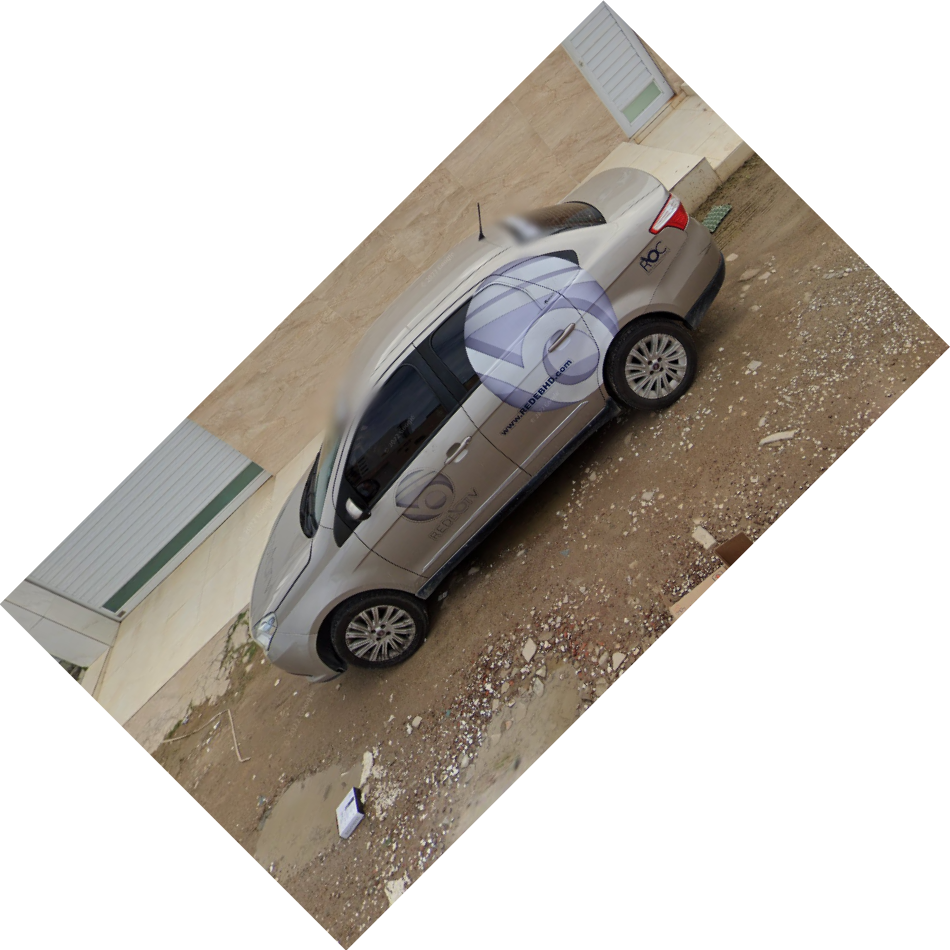car: (239, 159, 733, 731)
